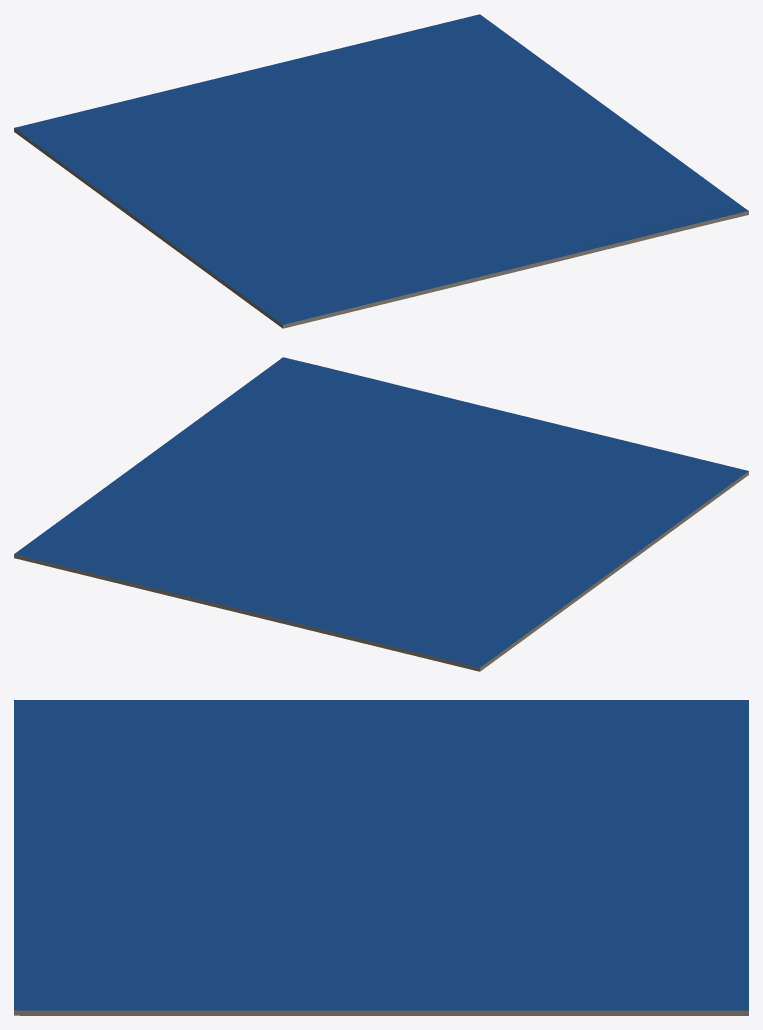
File: parca_+5_+3-uzak.glb
3 views of the same model, one above another, from view 1: azimuth 30°, elevation 25°; view 2: azimuth 150°, elevation 25°; view 3: azimuth 270°, elevation 25° (orthographic). The views are drawn at different scales.
Parts seen in each view (by area): view 1: parca_+5_+3_arazi_uzak; view 2: parca_+5_+3_arazi_uzak; view 3: parca_+5_+3_arazi_uzak.
Boxes of the visible parts, box(x1,y1,x2,y2) form: parca_+5_+3_arazi_uzak: box(14, 14, 748, 328); parca_+5_+3_arazi_uzak: box(14, 357, 748, 671); parca_+5_+3_arazi_uzak: box(14, 700, 748, 1015).
Size of the model in its own units: 1000 by 8.73 by 1000.
